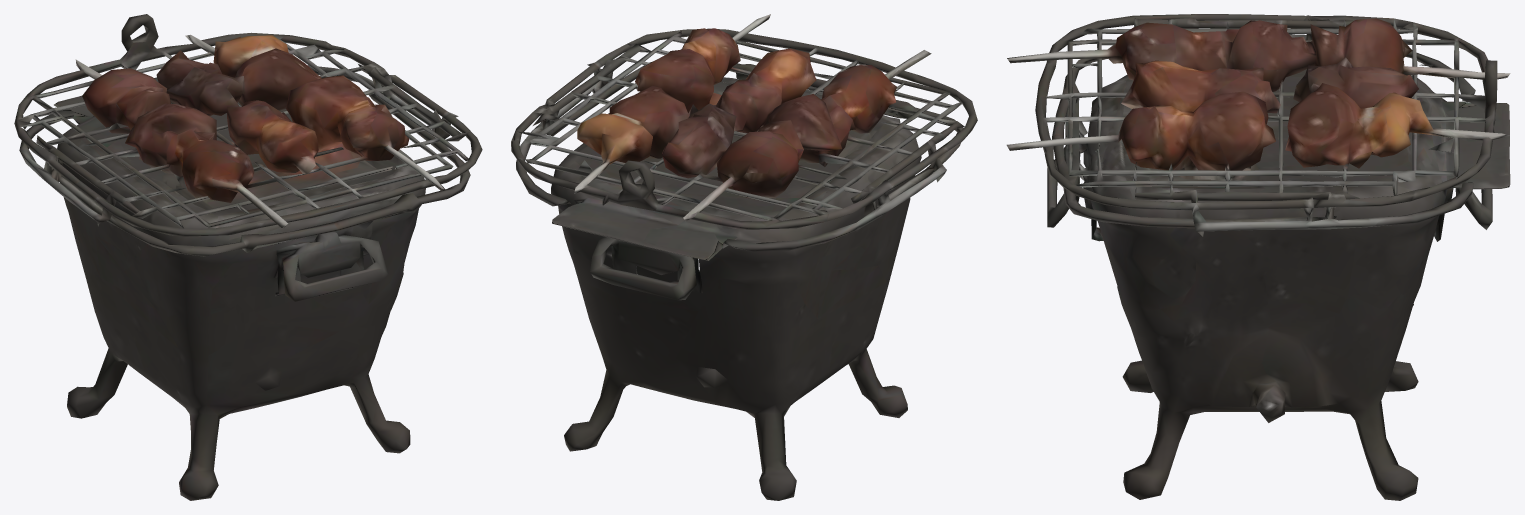
File: tielu.glb
3 renders of one model, left to right at view 1: azimuth 30°, elevation 25°; view 2: azimuth 150°, elevation 25°; view 3: azimuth 270°, elevation 25°, orthographic. The views are drawn at different scales.
Parts seen in each view (by area): view 1: tripo_node_976eb9e5-5392-4358-9446-bbb2d6232e73; view 2: tripo_node_976eb9e5-5392-4358-9446-bbb2d6232e73; view 3: tripo_node_976eb9e5-5392-4358-9446-bbb2d6232e73.
Boxes of the visible parts, box(x1,y1,x2,y2) form: tripo_node_976eb9e5-5392-4358-9446-bbb2d6232e73: box(14, 14, 482, 500); tripo_node_976eb9e5-5392-4358-9446-bbb2d6232e73: box(511, 14, 977, 500); tripo_node_976eb9e5-5392-4358-9446-bbb2d6232e73: box(1006, 14, 1510, 500).
Bounding box in the file's own units: 1.11 × 1 × 1.2.
Materials: 1 (1 with a texture image).
